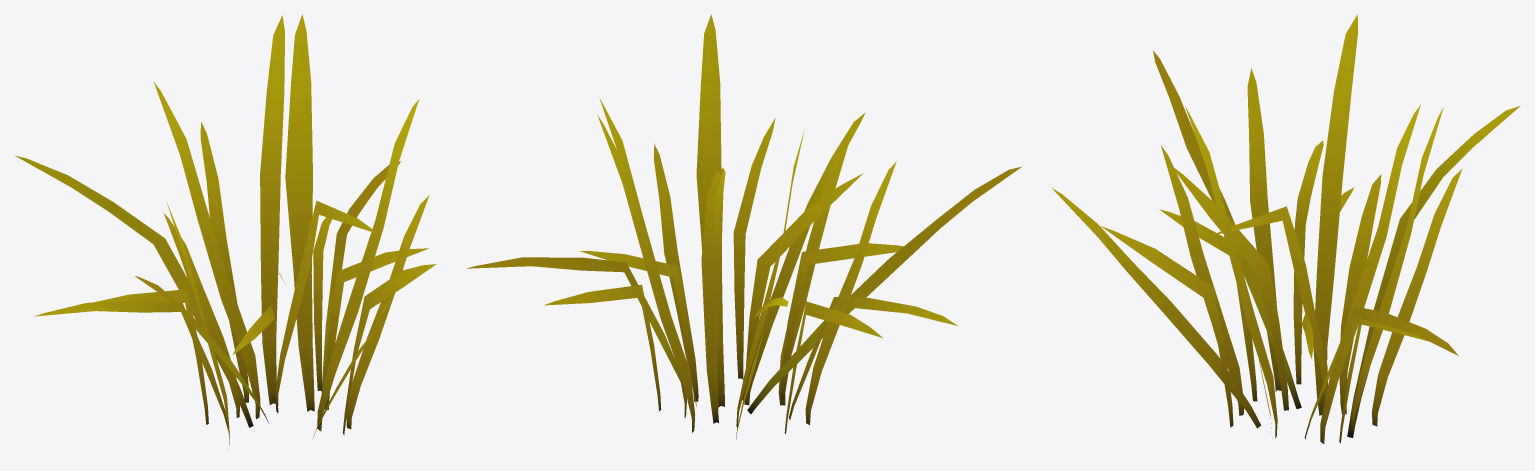
Rendered from grass-wispy.glb.
3 views of the same model, side by side, from view 1: azimuth 30°, elevation 25°; view 2: azimuth 150°, elevation 25°; view 3: azimuth 270°, elevation 25° (orthographic). The views are drawn at different scales.
Visible parts, largest first — view 1: Grass_Wispy_Short; view 2: Grass_Wispy_Short; view 3: Grass_Wispy_Short.
Boxes of the visible parts, left/top/right/bottom form: Grass_Wispy_Short: left=15, top=14, right=436, bottom=449; Grass_Wispy_Short: left=466, top=14, right=1021, bottom=439; Grass_Wispy_Short: left=1052, top=14, right=1519, bottom=443.
Bounding box in the file's own units: 1.32 × 1.07 × 1.21.
Materials: 1 (1 with a texture image).
